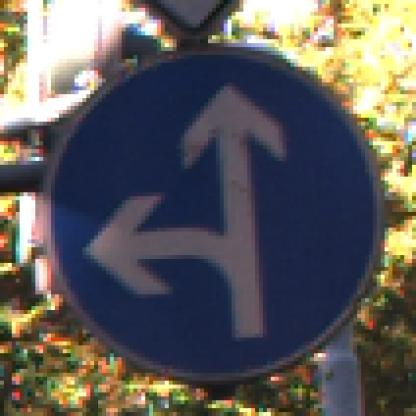Straight or Left: (40, 40, 382, 378)
